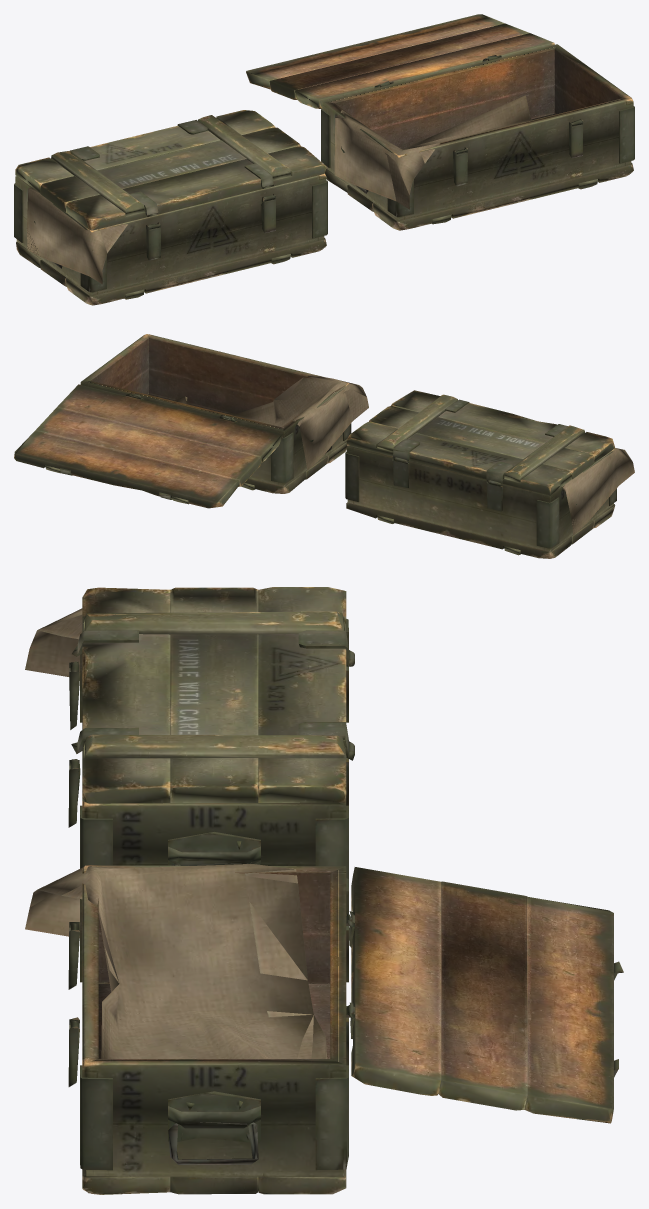
File: old_military_crate.glb
3 renders of one model, top to bottom at view 1: azimuth 30°, elevation 25°; view 2: azimuth 150°, elevation 25°; view 3: azimuth 270°, elevation 25°, orthographic. The views are drawn at different scales.
Parts seen in each view (by area): view 1: old_military_crate_lid_a; view 2: old_military_crate_lid_a; view 3: old_military_crate_lid_a.
Part boxes in pixels (bbox=[...]): old_military_crate_lid_a: bbox=[14, 14, 634, 305]; old_military_crate_lid_a: bbox=[14, 334, 634, 558]; old_military_crate_lid_a: bbox=[25, 587, 623, 1194].
Bounding box in the file's own units: 1.81 × 0.2983 × 0.9756.
1 material, 1 textured.
